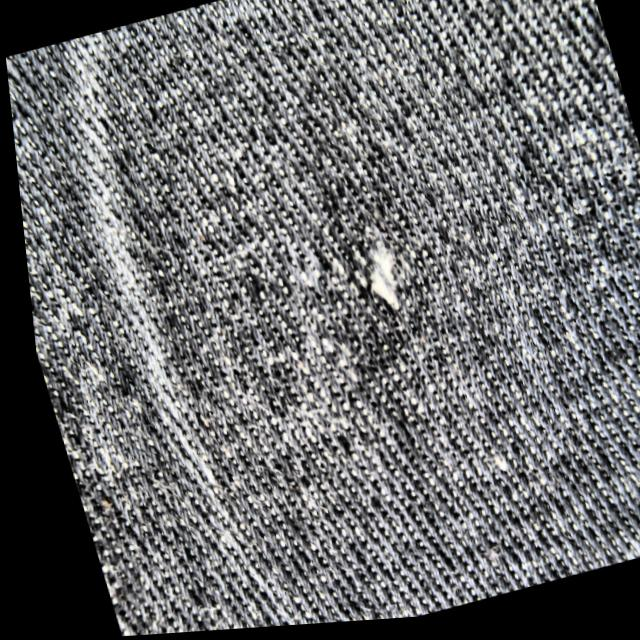Hole: (316, 219, 425, 338)
